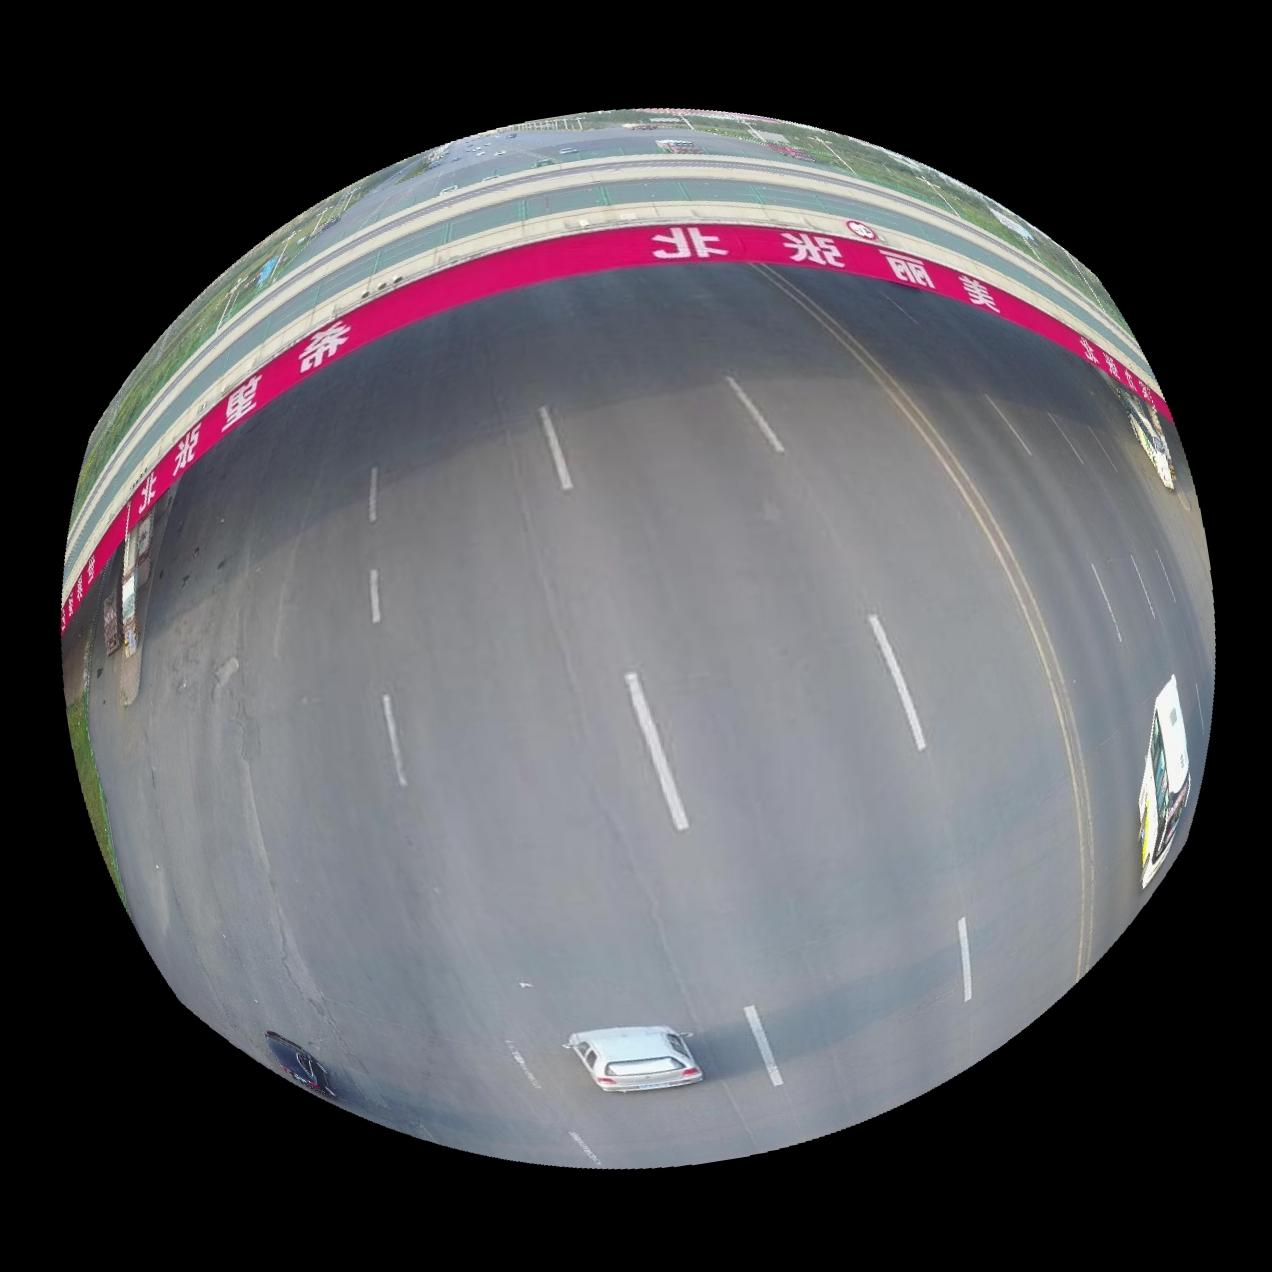cars: (1140, 675, 1192, 888), (562, 1028, 703, 1094), (1119, 386, 1177, 489), (265, 1033, 333, 1099)
trees: (61, 614, 123, 905)
